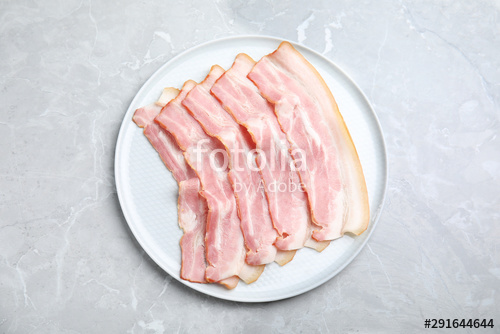bacon: (120, 41, 386, 268)
